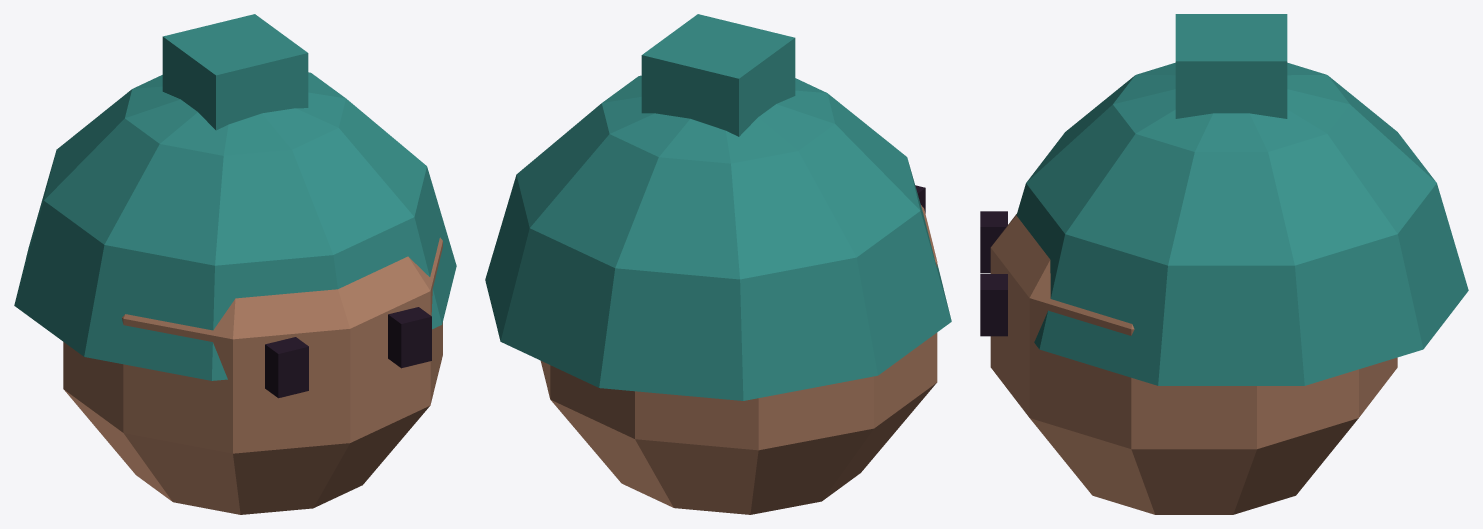
File: head_hessa.gltf
The picture shows the model from 3 angles, left to right: view 1: azimuth 30°, elevation 25°; view 2: azimuth 150°, elevation 25°; view 3: azimuth 270°, elevation 25°; orthographic projection. The views are drawn at different scales.
Visible parts, largest first — view 1: cap, skin, bobble, eyes; view 2: cap, skin, bobble; view 3: cap, skin, bobble, eyes.
Part boxes in pixels (left/top/right/bottom): cap: left=14, top=72, right=456, bottom=380; skin: left=63, top=237, right=442, bottom=514; bobble: left=162, top=14, right=308, bottom=130; eyes: left=265, top=307, right=431, bottom=398; cap: left=485, top=75, right=951, bottom=400; skin: left=540, top=205, right=937, bottom=514; bobble: left=641, top=14, right=795, bottom=136; cap: left=1016, top=62, right=1468, bottom=385; skin: left=990, top=214, right=1397, bottom=514; bobble: left=1175, top=14, right=1287, bottom=118; eyes: left=980, top=211, right=1007, bottom=336.
Bounding box in the file's own units: 0.485 × 0.55 × 0.525.
